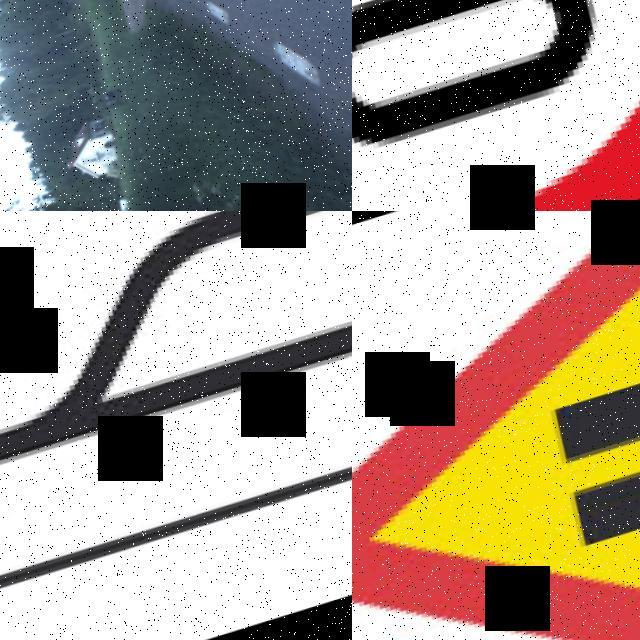131: (352, 211, 640, 640)
71: (0, 211, 352, 635)
speed limit-80: (352, 0, 640, 211)
